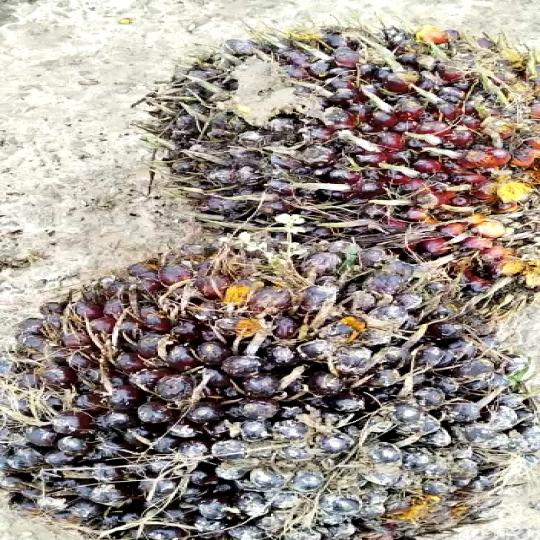kurang masak: (0, 226, 540, 540), (139, 23, 540, 282)
